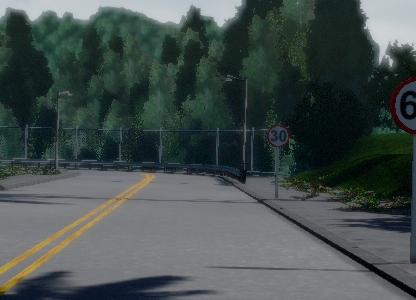Speed_60: (389, 74, 416, 136)
